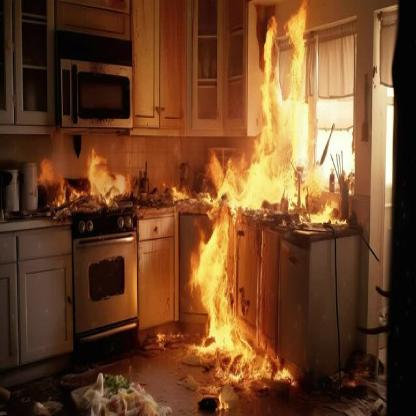fire: (40, 0, 338, 393)
